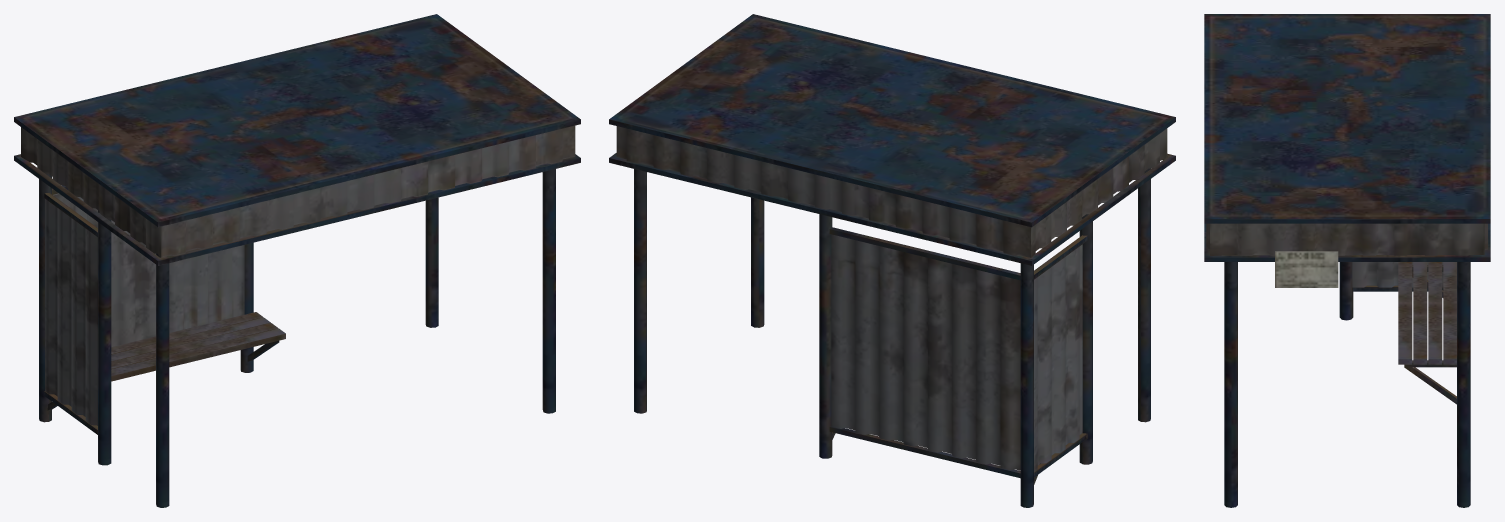
Rendered from shelter_333.glb.
3 views of the same model, side by side, from view 1: azimuth 30°, elevation 25°; view 2: azimuth 150°, elevation 25°; view 3: azimuth 270°, elevation 25° (orthographic).
Visible parts, largest first — view 1: shelter_333; view 2: shelter_333; view 3: shelter_333.
Boxes of the visible parts, <box> form: shelter_333: <box>14,14,580,507</box>; shelter_333: <box>609,14,1175,507</box>; shelter_333: <box>1204,14,1490,507</box>.
Size of the model in its own units: 3.88 by 2.6 by 2.29.
Materials: 1 (1 with a texture image).
